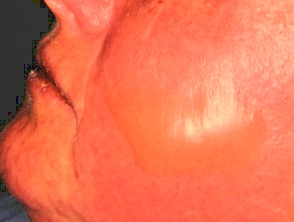SJS-TEN: (93, 51, 266, 193)
